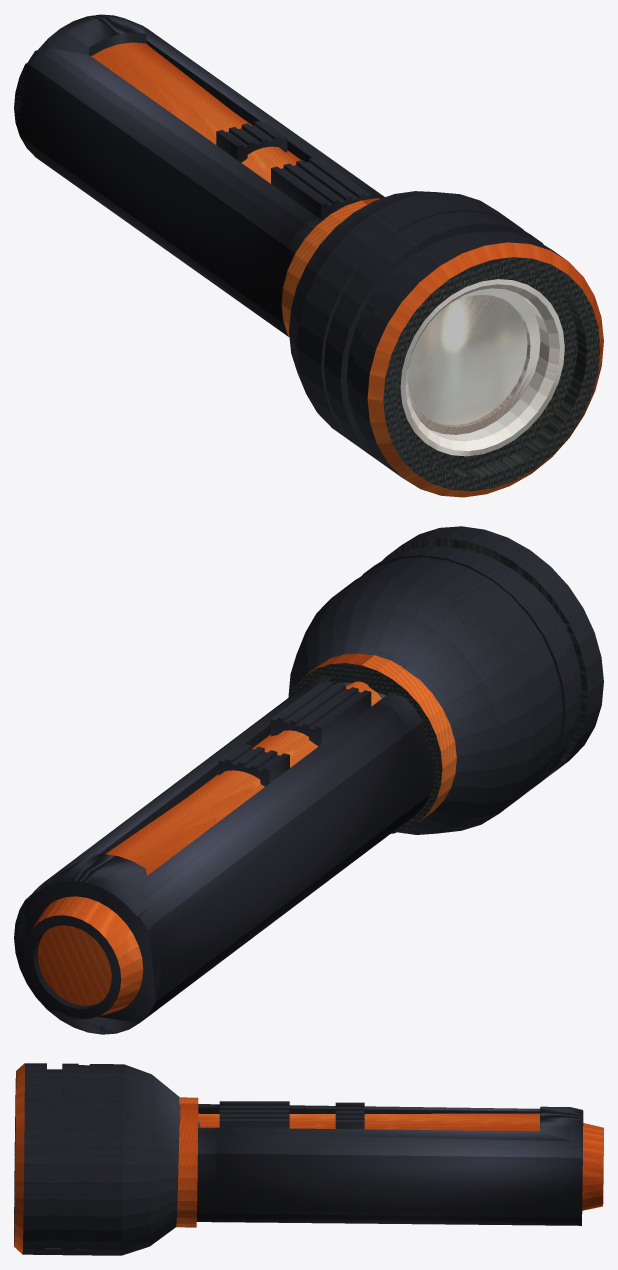
Rendered from Lantern.fbx.
3 renders of one model, top to bottom at view 1: azimuth 30°, elevation 25°; view 2: azimuth 150°, elevation 25°; view 3: azimuth 270°, elevation 25°, orthographic. The views are drawn at different scales.
Parts seen in each view (by area): view 1: Cylinder, Cone, Cube, Cylinder.001, Cube.001; view 2: Cylinder, Cone, Cylinder.001, Cube, Cube.001; view 3: Cylinder, Cone, Cylinder.001, Cube, Cube.001.
Part boxes in pixels (bbox=[...]): Cylinder: bbox=[14, 14, 540, 434]; Cone: bbox=[289, 191, 603, 497]; Cube: bbox=[271, 157, 371, 220]; Cylinder.001: bbox=[281, 198, 380, 337]; Cube.001: bbox=[216, 120, 287, 162]; Cylinder: bbox=[14, 676, 434, 1034]; Cone: bbox=[288, 526, 603, 834]; Cylinder.001: bbox=[288, 653, 456, 833]; Cube: bbox=[271, 681, 371, 746]; Cube.001: bbox=[218, 744, 289, 786]; Cylinder: bbox=[196, 1104, 603, 1225]; Cone: bbox=[14, 1063, 200, 1255]; Cylinder.001: bbox=[176, 1097, 198, 1227]; Cube: bbox=[219, 1101, 289, 1128]; Cube.001: bbox=[335, 1102, 364, 1129].
Size of the model in its own units: 124 by 124 by 380.
Materials: 11 (11 with a texture image).
